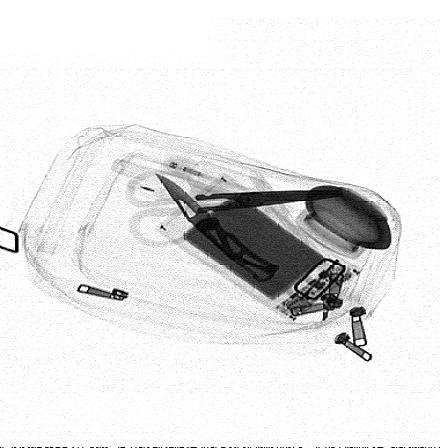Knife: (154, 173, 282, 283)
Powerbank: (149, 169, 369, 330)
Scissors: (125, 171, 351, 248)
